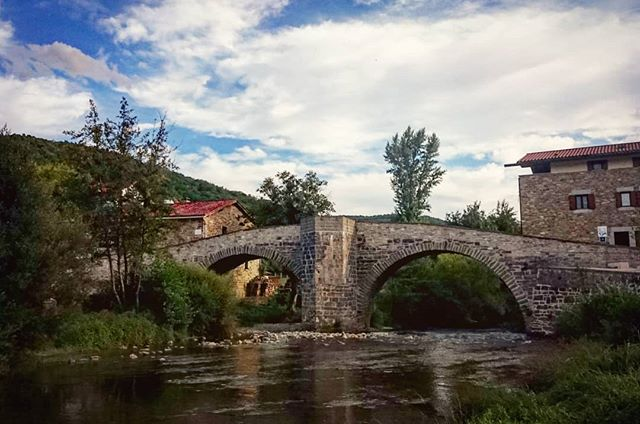bridge: (125, 223, 633, 337)
building: (515, 152, 640, 264), (161, 201, 243, 299)
river: (1, 338, 550, 424)
sky: (1, 1, 632, 148)
tree: (64, 116, 183, 339), (1, 155, 113, 365), (378, 123, 448, 228), (245, 174, 334, 230)
